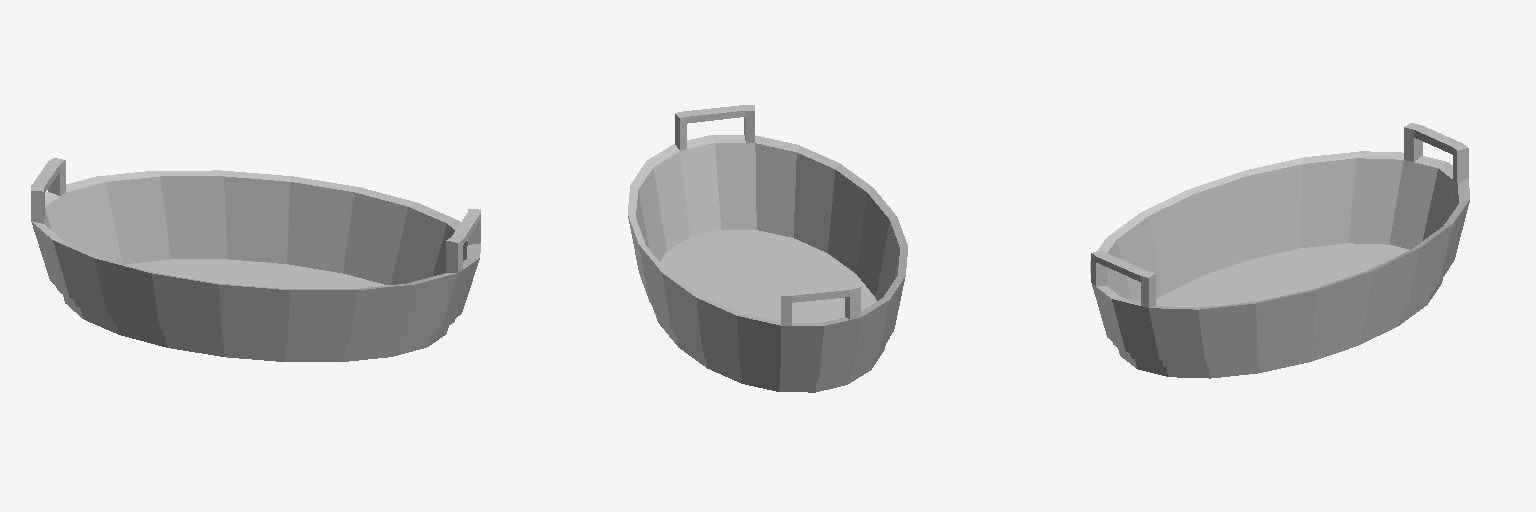
The model's file is washtub1.obj.
3 renders of one model, left to right at view 1: azimuth 30°, elevation 25°; view 2: azimuth 150°, elevation 25°; view 3: azimuth 270°, elevation 25°, orthographic.
Parts seen in each view (by area): view 1: washtub washtub_grp; view 2: washtub washtub_grp; view 3: washtub washtub_grp.
Boxes of the visible parts, x1=… form: washtub washtub_grp: x1=31, y1=158, x2=480, y2=361; washtub washtub_grp: x1=628, y1=105, x2=907, y2=392; washtub washtub_grp: x1=1090, y1=123, x2=1469, y2=378.
Bounding box in the file's own units: 119 × 38.87 × 121.